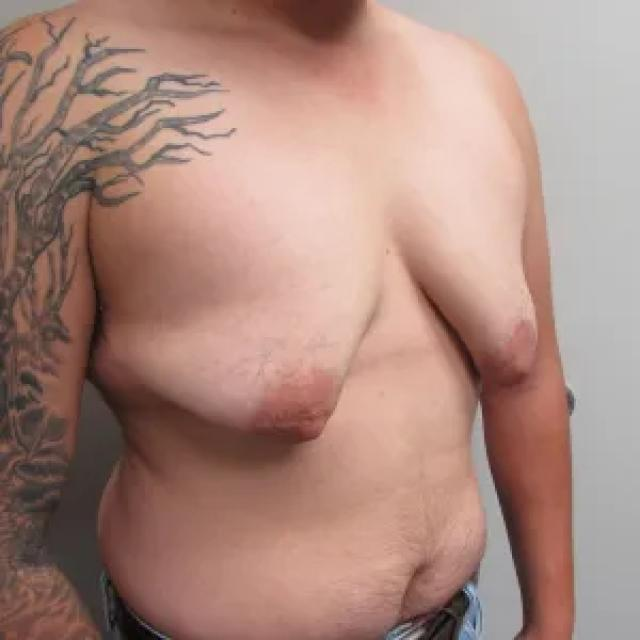Seno ileso: (83, 188, 393, 467), (398, 187, 544, 411)
